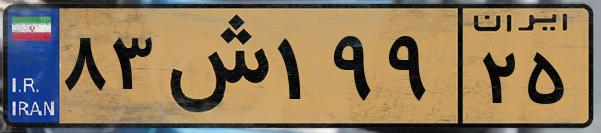1: (270, 28, 330, 110)
2: (475, 38, 525, 113)
3: (110, 28, 158, 98)
5: (525, 38, 570, 115)
8: (57, 26, 110, 100)
9: (385, 28, 445, 110), (330, 28, 385, 110)
ش: (158, 12, 270, 120)
